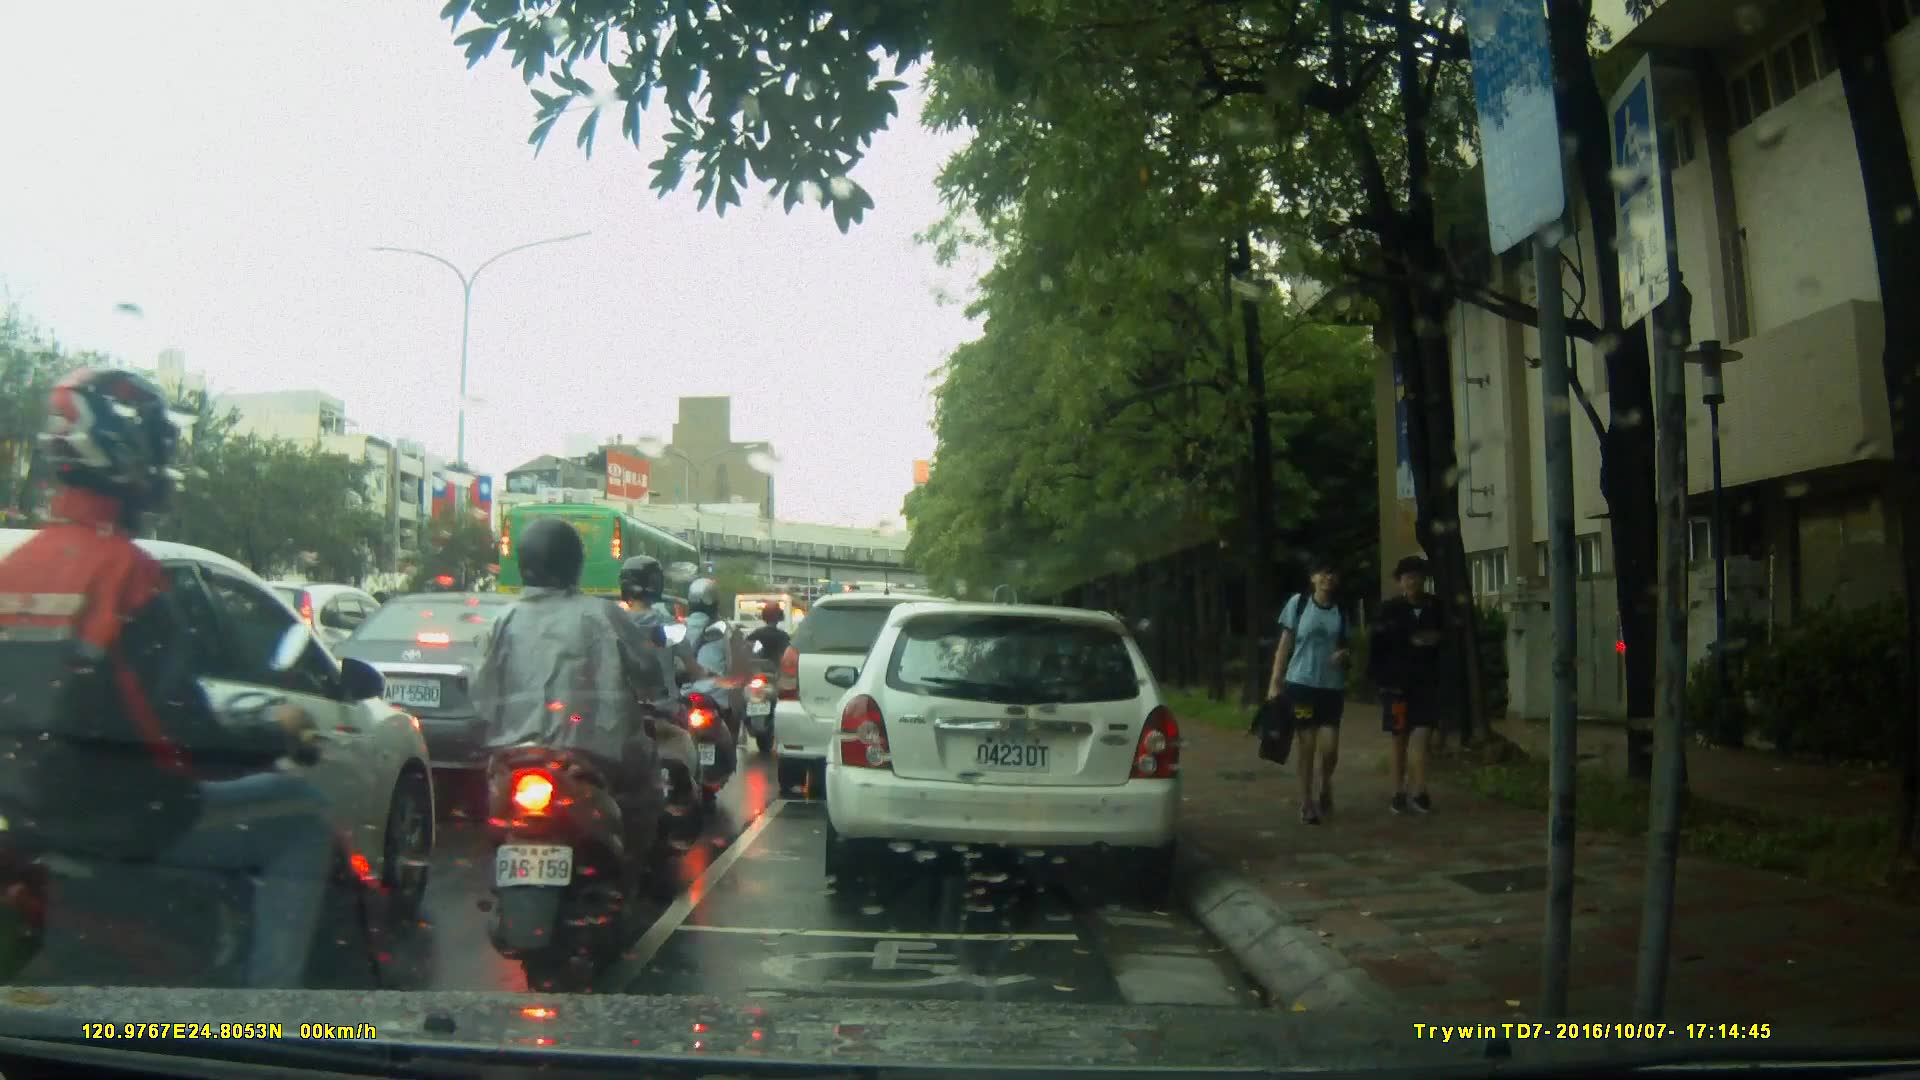pedestrian: (1249, 553, 1363, 830), (1380, 559, 1464, 819)
rider: (1, 359, 400, 1080), (468, 525, 688, 960), (590, 560, 712, 856), (667, 578, 747, 797), (744, 601, 804, 756)
vehicle: (1, 528, 451, 988), (831, 592, 1196, 897), (317, 590, 627, 793), (770, 591, 999, 803), (495, 500, 707, 636)
